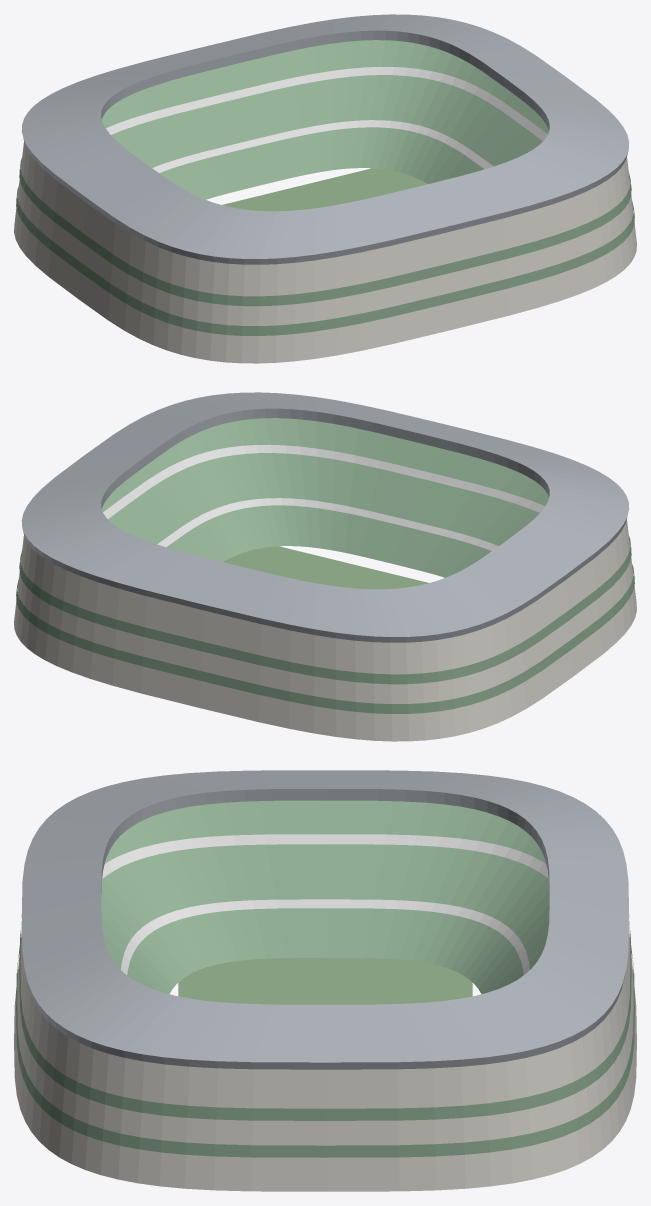
Rendered from villamarin.glb.
3 renders of one model, top to bottom at view 1: azimuth 30°, elevation 25°; view 2: azimuth 150°, elevation 25°; view 3: azimuth 270°, elevation 25°, orthographic. The views are drawn at different scales.
Size of the model in its own units: 164 by 37 by 144.
